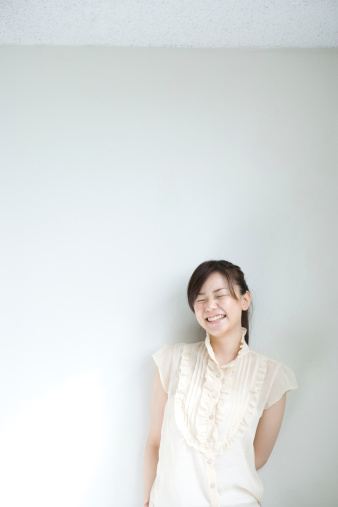em pe: (132, 257, 293, 507)
